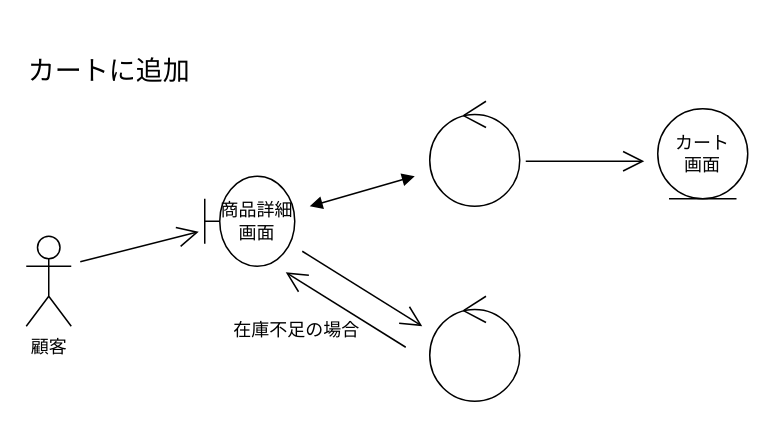
This 774x428 diagram has some shape labels left out. Each missing label, with the box of its shape:
カートに 追加: (428, 100, 520, 206)
在庫不足画面: (428, 295, 520, 401)
